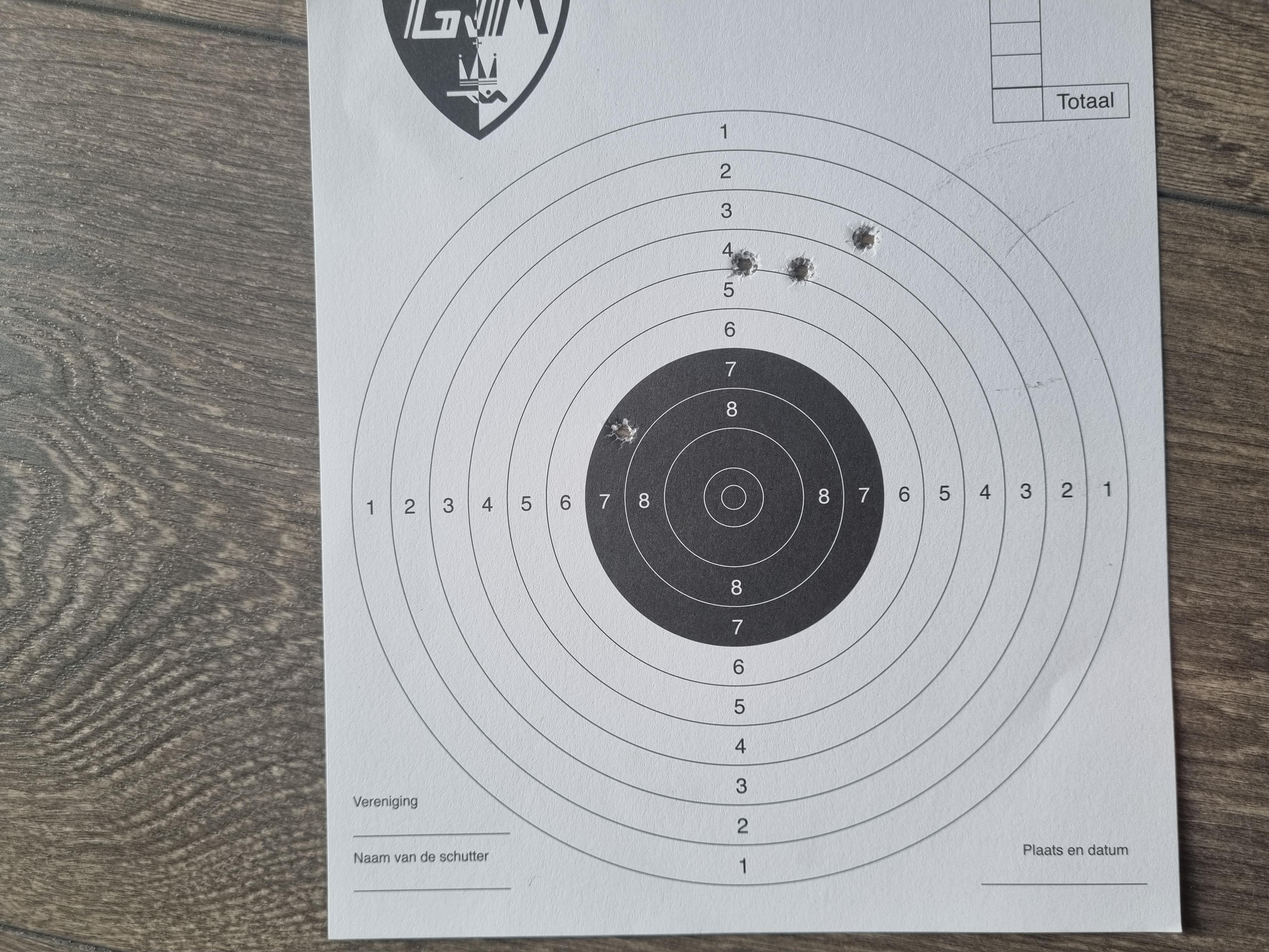hole: (675, 456, 713, 479), (891, 589, 927, 612), (898, 547, 935, 569), (933, 638, 970, 658)
